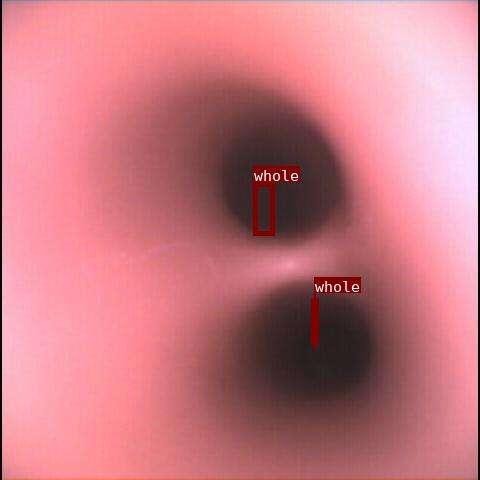whole: (253, 182, 274, 235), (314, 293, 315, 349)
